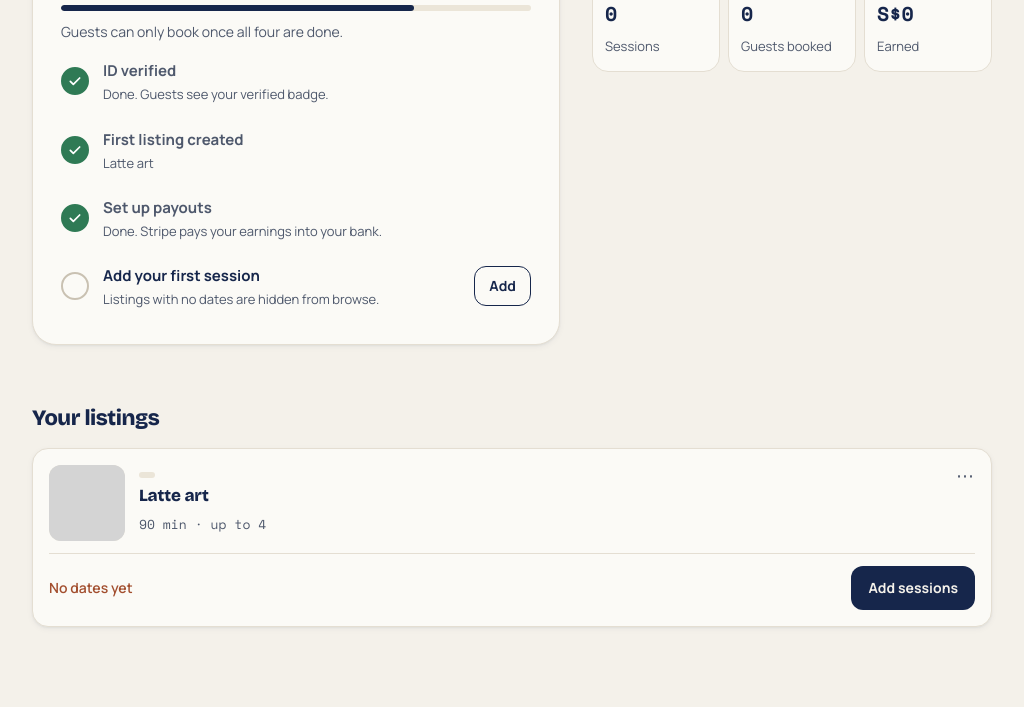
Test: Dashboard add session › shows the listing duration and does not ask for one
(page scrolled)
Click the button "Add sessions" at (913, 588), box [851,566,975,610]
(page scrolled)
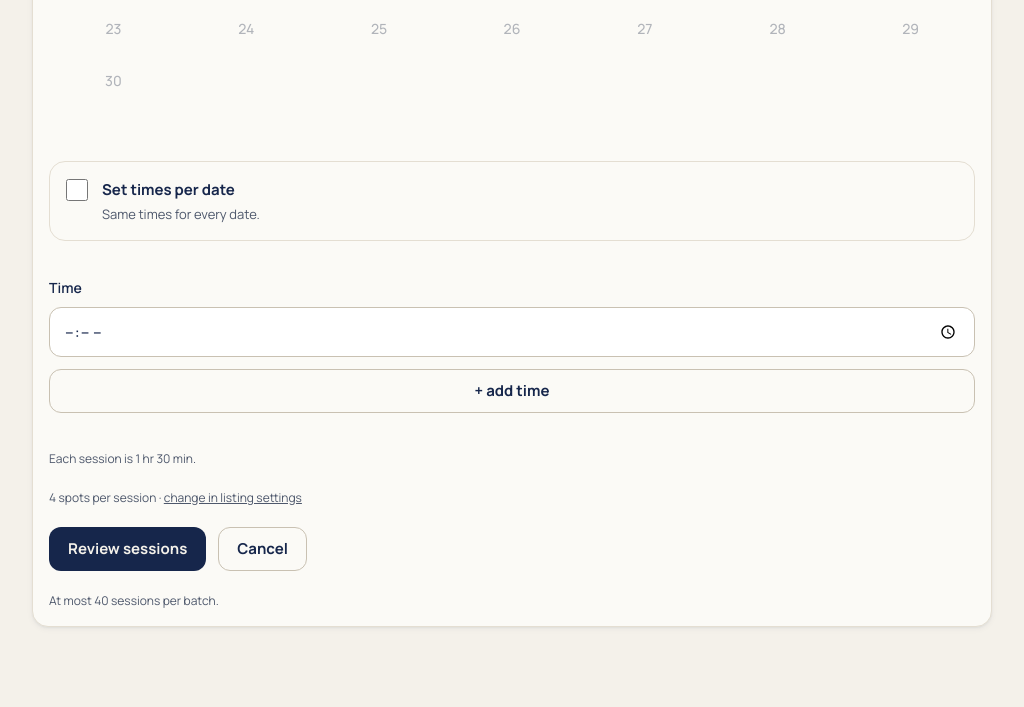
Expected: the text "Each session is 1 hr 30 min." is shown, [49,450,196,467]
Expected: the text "4 spots per session · change in listing settings" is shown, [49,489,302,506]
